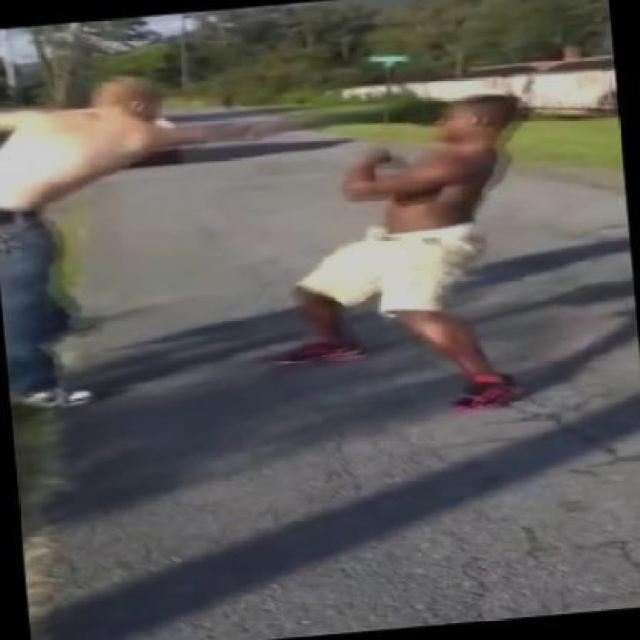fight: (0, 74, 522, 415)
